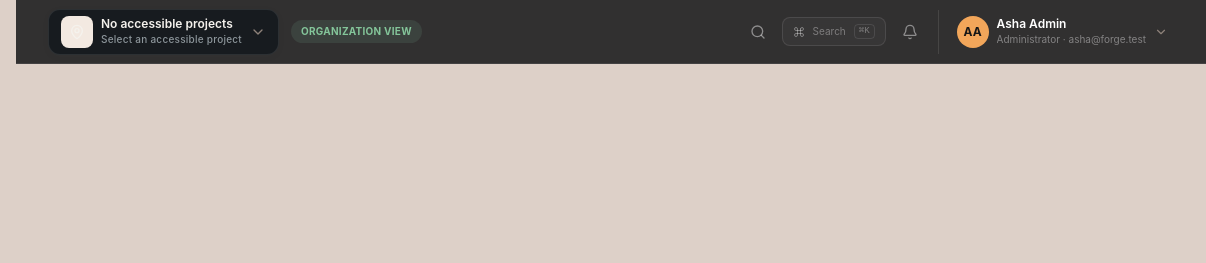
Test: Topbar › admin notifications load from the audit log and render items
Click the button named "Notifications". click: (910, 32)
box: x1=894 y1=16 x2=926 y2=48
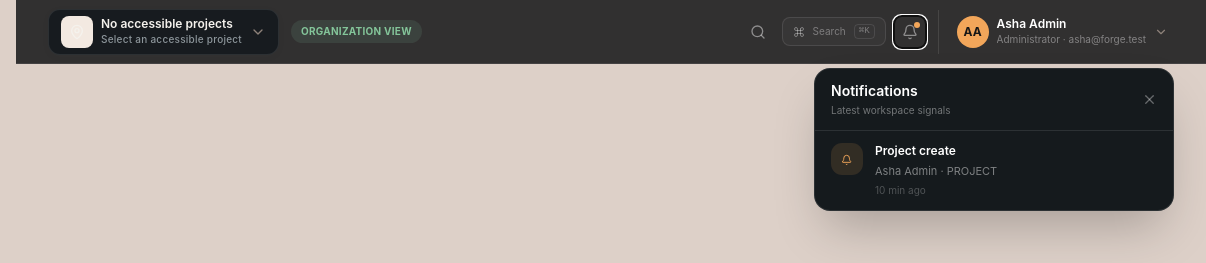
Result: the text "Notifications" is shown at x1=831 y1=82 x2=918 y2=99
Result: the text "Project create" is shown at x1=875 y1=143 x2=956 y2=158
Result: the text "Asha Admin · PROJECT" is shown at x1=875 y1=164 x2=997 y2=178
